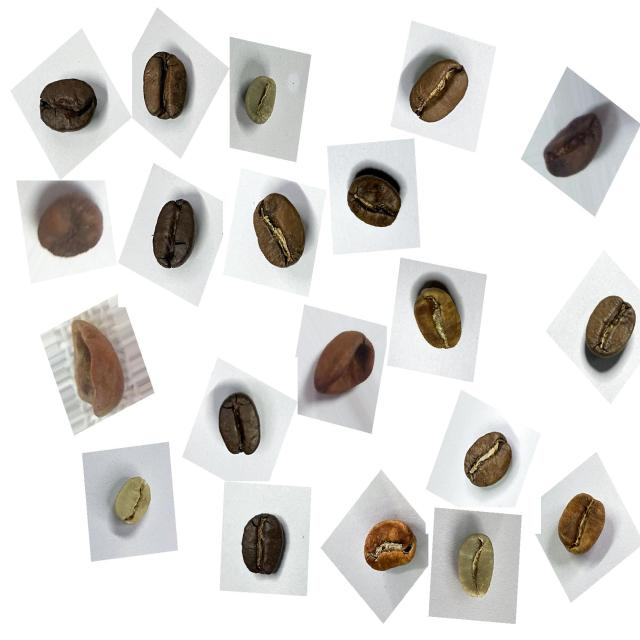bad: (62, 311, 136, 424), (28, 180, 111, 273), (536, 97, 615, 192), (307, 318, 385, 412)
dark: (140, 191, 207, 284), (31, 68, 106, 150), (226, 504, 296, 591), (208, 384, 273, 466)
green: (446, 526, 507, 613), (103, 467, 164, 539), (236, 64, 292, 137)
light: (404, 272, 473, 365), (546, 482, 614, 568), (356, 511, 425, 588)
medium: (239, 185, 316, 284), (399, 47, 481, 139), (573, 284, 640, 375), (337, 162, 410, 244), (135, 44, 199, 131), (454, 422, 521, 501)
